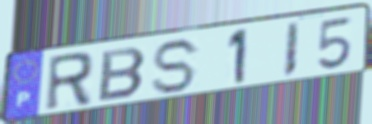1: (225, 26, 251, 88)
5: (316, 15, 354, 71)
B: (96, 46, 150, 104)
I: (280, 20, 302, 80)
R: (42, 50, 96, 115)
S: (150, 37, 204, 97)
